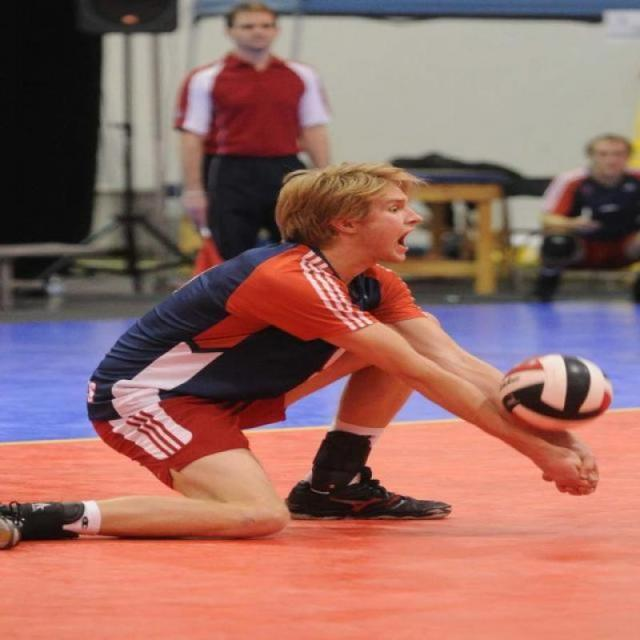volleyball: (499, 350, 615, 433)
